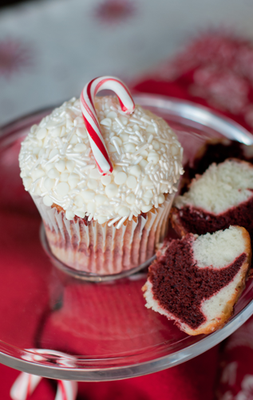curry: (0, 30, 253, 398)
sushi: (18, 74, 187, 278), (141, 137, 252, 337)
